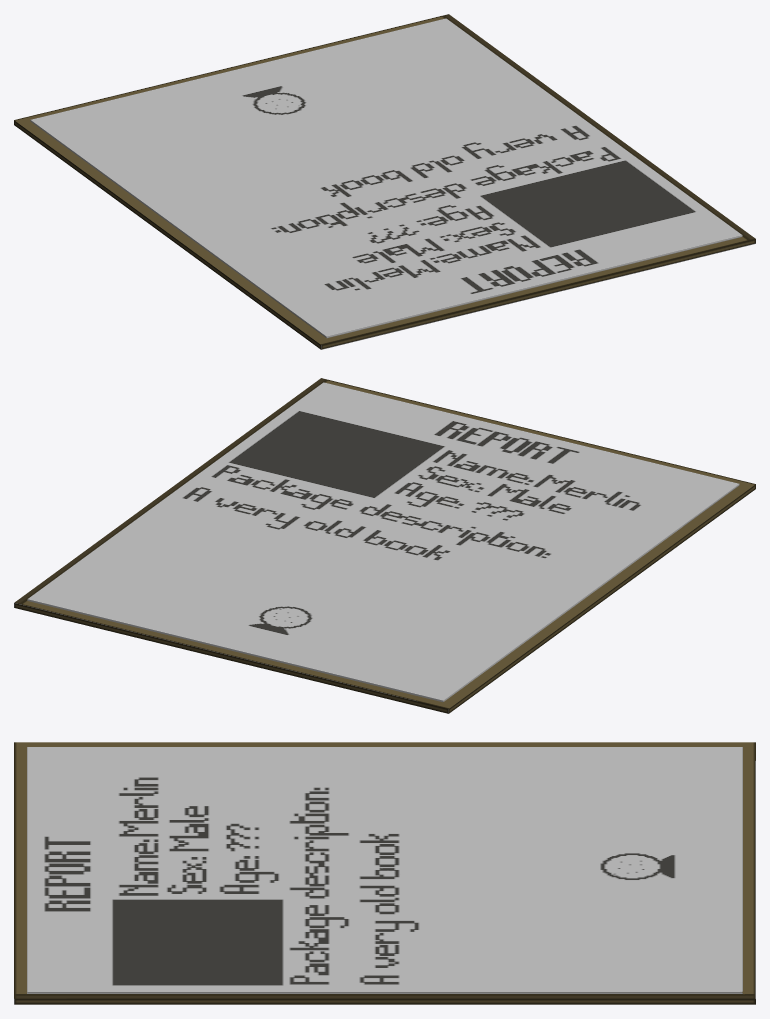
Rendered from note_full_old_book.fbx.
The picture shows the model from 3 angles, top to bottom: view 1: azimuth 30°, elevation 25°; view 2: azimuth 150°, elevation 25°; view 3: azimuth 270°, elevation 25°; orthographic projection. The views are drawn at different scales.
Parts seen in each view (by area): view 1: cube_1, cube; view 2: cube_1, cube; view 3: cube_1, cube.
Boxes of the visible parts, left/top/right/bottom form: cube_1: left=30, top=18, right=742, bottom=338; cube: left=14, top=14, right=755, bottom=349; cube_1: left=27, top=382, right=739, bottom=702; cube: left=14, top=378, right=755, bottom=713; cube_1: left=27, top=747, right=742, bottom=993; cube: left=14, top=742, right=755, bottom=1004.
Bounding box in the file's own units: 1731 × 25 × 2119.
Materials: 1 (1 with a texture image).
